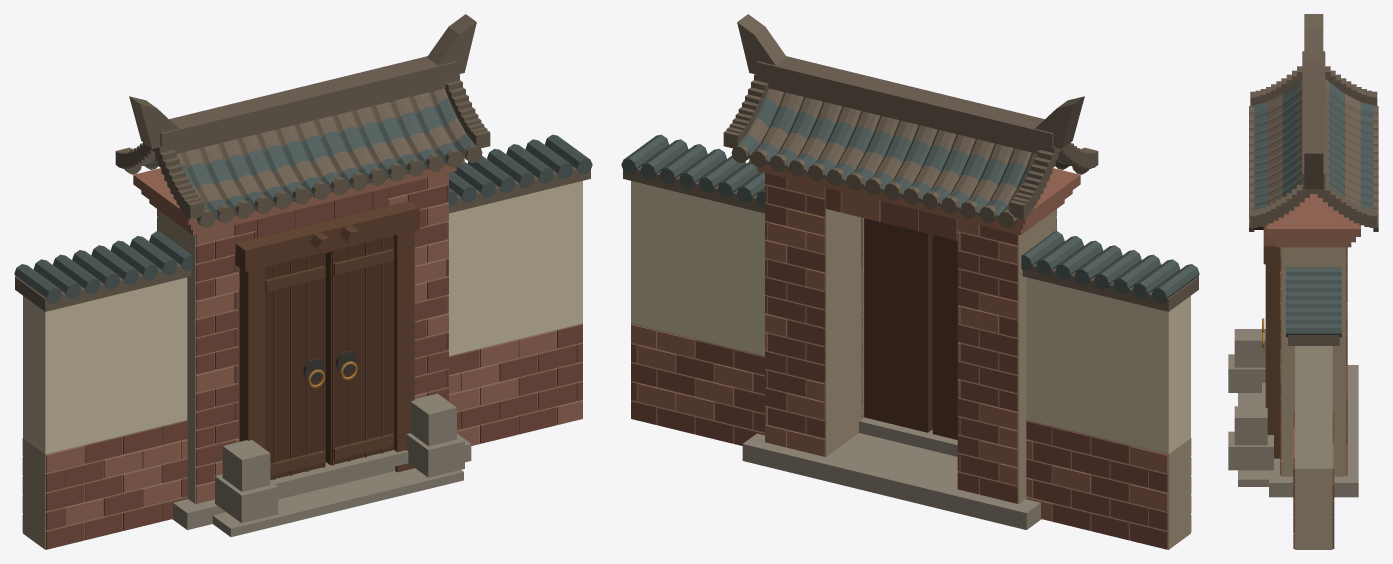
File: Suiqiang_Gate.obj
3 views of the same model, side by side, from view 1: azimuth 30°, elevation 25°; view 2: azimuth 150°, elevation 25°; view 3: azimuth 270°, elevation 25° (orthographic). The views are drawn at different scales.
Parts seen in each view (by area): view 1: Courtyard_plaster_0047, Courtyard_plaster_0102, Door_leaves_0281, Main_ridge_0452, Door_leaves_0271, Steps_0001, Door_lintel_0291, Door_frame_0280, Door_frame_0290, Walls_0112, Walls_0002, Threshold_0292 (+66 smaller); view 2: Courtyard_plaster_0047, Courtyard_plaster_0102, Door_leaves_0281, Platform_0000, Walls_0187, Main_ridge_0452, Door_leaves_0271, Walls_0112, Walls_0002, Wall_coping_0048, Threshold_0292, Brick_eave_0299 (+77 smaller); view 3: Walls_0187, Courtyard_plaster_0102, Walls_0057, Door_frame_0290, Platform_0000, Brick_eave_0301, Main_ridge_0452, Door_stone_base_0297, Square_door_stones_0298, Square_door_stones_0296, Door_stone_base_0295, Ridge_end_0453 (+14 smaller).
Part boxes in pixels (<box>): Courtyard_plaster_0047: <box>23,277,187,454</box>; Courtyard_plaster_0102: <box>448,181,582,355</box>; Door_leaves_0281: <box>325,235,393,465</box>; Main_ridge_0452: <box>153,56,457,153</box>; Door_leaves_0271: <box>265,253,325,479</box>; Steps_0001: <box>212,468,463,536</box>; Door_lintel_0291: <box>235,200,419,271</box>; Door_frame_0280: <box>239,267,265,448</box>; Door_frame_0290: <box>394,230,414,472</box>; Walls_0112: <box>157,209,255,503</box>; Walls_0002: <box>23,420,187,549</box>; Threshold_0292: <box>270,450,408,494</box>; Courtyard_plaster_0047: <box>1026,277,1190,454</box>; Courtyard_plaster_0102: <box>631,181,765,355</box>; Door_leaves_0281: <box>864,218,932,432</box>; Platform_0000: <box>742,433,1041,529</box>; Walls_0187: <box>765,178,863,456</box>; Main_ridge_0452: <box>756,56,1060,153</box>; Door_leaves_0271: <box>932,235,957,439</box>; Walls_0112: <box>958,209,1056,503</box>; Walls_0002: <box>1026,420,1190,549</box>; Wall_coping_0048: <box>1022,262,1198,311</box>; Threshold_0292: <box>859,417,957,456</box>; Brick_eave_0299: <box>757,167,1064,235</box>; Walls_0187: <box>1281,247,1346,476</box>; Courtyard_plaster_0102: <box>1295,346,1332,468</box>; Walls_0057: <box>1295,468,1332,549</box>; Door_frame_0290: <box>1265,264,1279,458</box>; Platform_0000: <box>1269,365,1358,497</box>; Brick_eave_0301: <box>1266,194,1360,236</box>; Main_ridge_0452: <box>1302,51,1325,193</box>; Door_stone_base_0297: <box>1228,431,1273,470</box>; Square_door_stones_0298: <box>1234,406,1267,445</box>; Square_door_stones_0296: <box>1234,329,1265,367</box>; Door_stone_base_0295: <box>1228,354,1265,392</box>; Ridge_end_0453: <box>1304,14,1323,58</box>.
Bounding box in the file's own units: 5.38 × 3.93 × 1.51.
